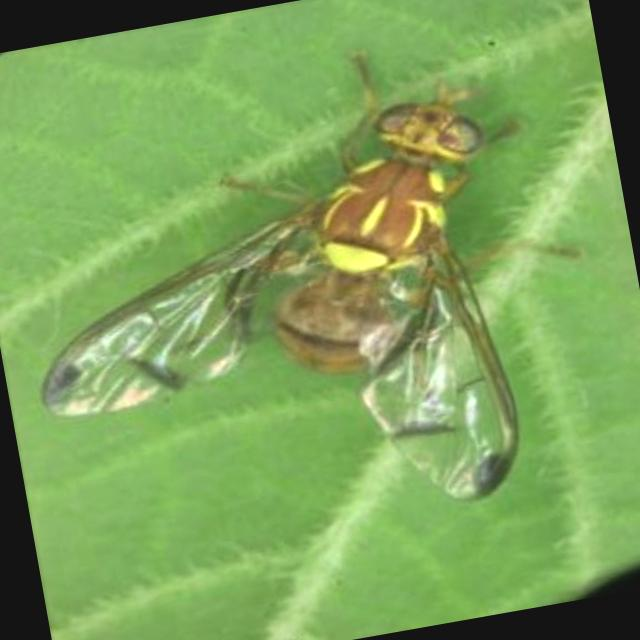melon fly: (0, 35, 636, 610)
